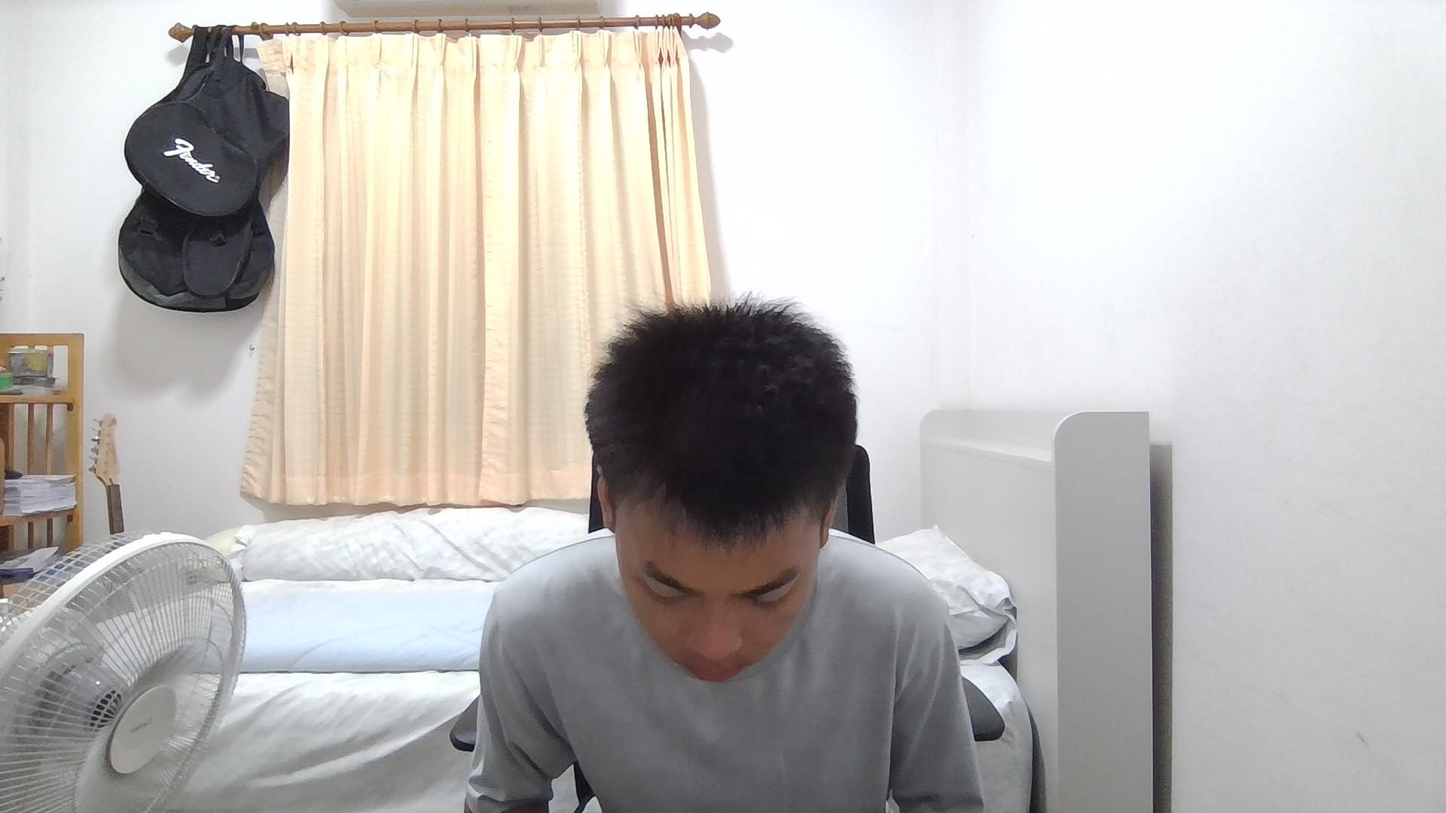BadPosture: (463, 294, 987, 812)
